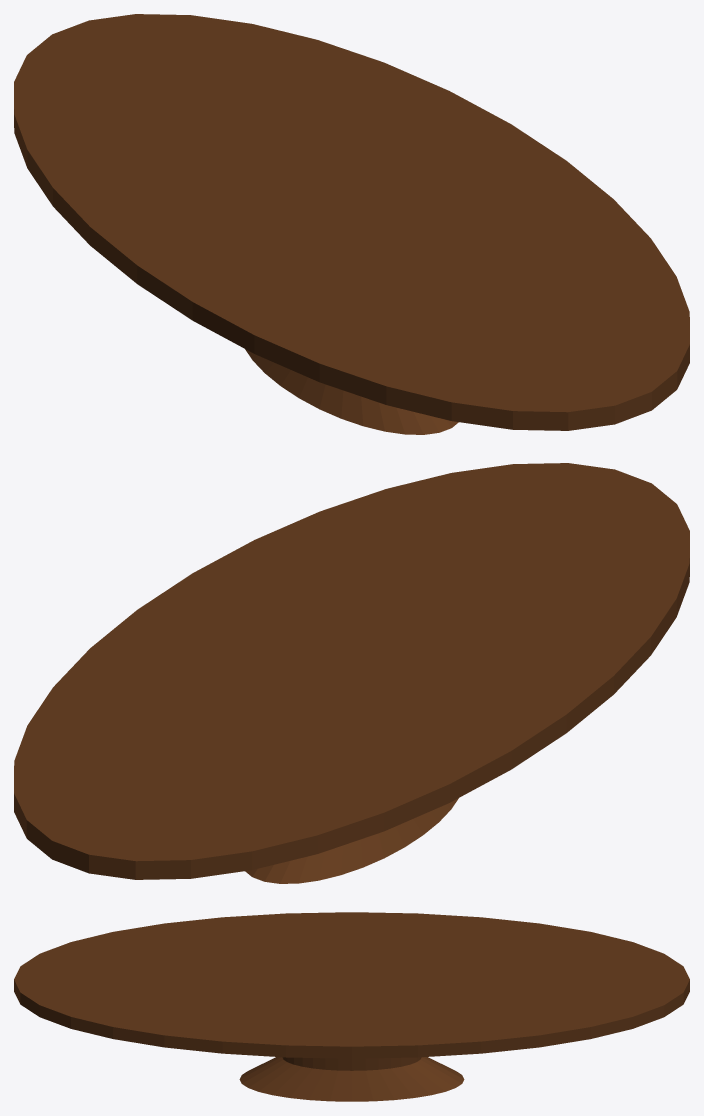
Rendered from ConferenceDesk.fbx.
3 renders of one model, top to bottom at view 1: azimuth 30°, elevation 25°; view 2: azimuth 150°, elevation 25°; view 3: azimuth 270°, elevation 25°, orthographic. The views are drawn at different scales.
Parts seen in each view (by area): view 1: Conference Desk; view 2: Conference Desk; view 3: Conference Desk.
Boxes of the visible parts, box(x1,y1,x2,y2) form: Conference Desk: box(14, 14, 689, 434); Conference Desk: box(14, 463, 689, 883); Conference Desk: box(14, 912, 689, 1101).
Bounding box in the file's own units: 468 × 162 × 993.
